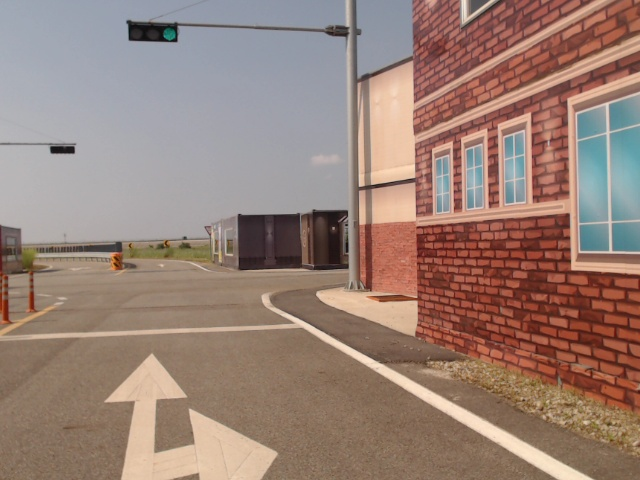green_3: (128, 24, 178, 43)
